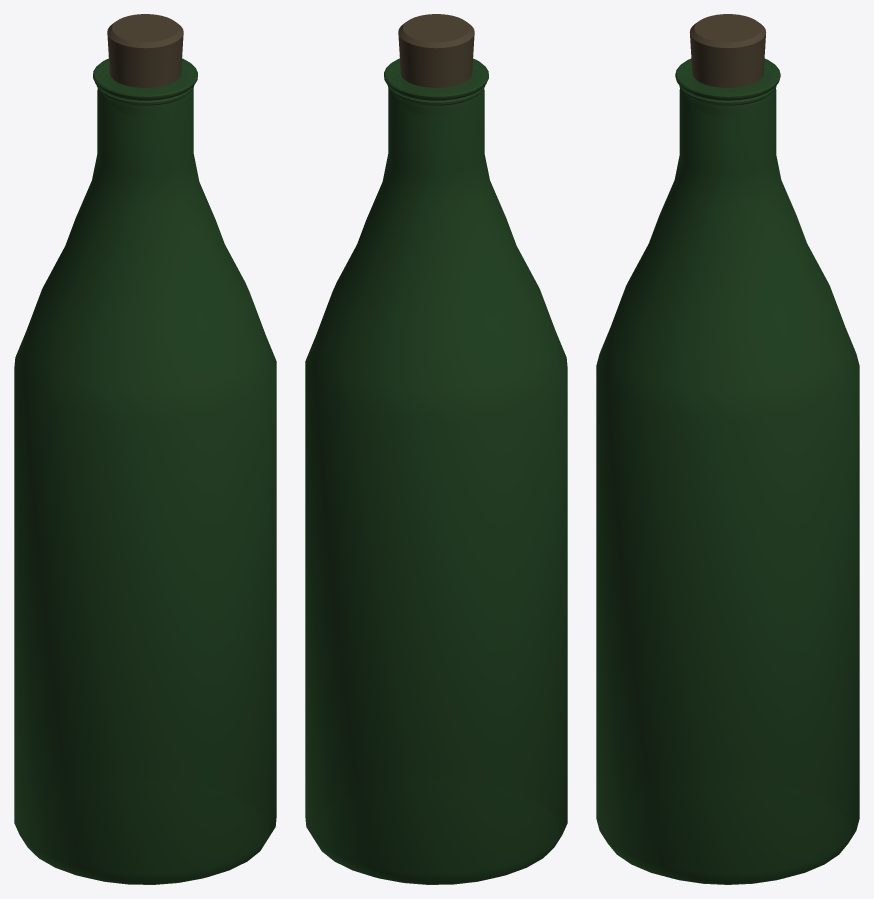
The model's file is bottle.glb.
3 views of the same model, side by side, from view 1: azimuth 30°, elevation 25°; view 2: azimuth 150°, elevation 25°; view 3: azimuth 270°, elevation 25° (orthographic).
Visible parts, largest first — view 1: Plane, Cylinder; view 2: Plane, Cylinder; view 3: Plane, Cylinder.
Boxes of the visible parts, bbox=[...] form: Plane: bbox=[14, 58, 276, 884]; Cylinder: bbox=[107, 14, 183, 87]; Plane: bbox=[305, 58, 567, 884]; Cylinder: bbox=[398, 14, 474, 87]; Plane: bbox=[596, 58, 859, 884]; Cylinder: bbox=[689, 14, 766, 87].
Size of the model in its own units: 3.31 by 11.22 by 3.31.
